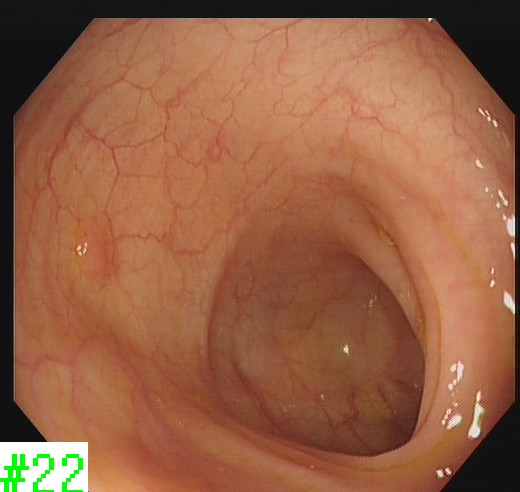adenoma: (71, 214, 111, 290)
